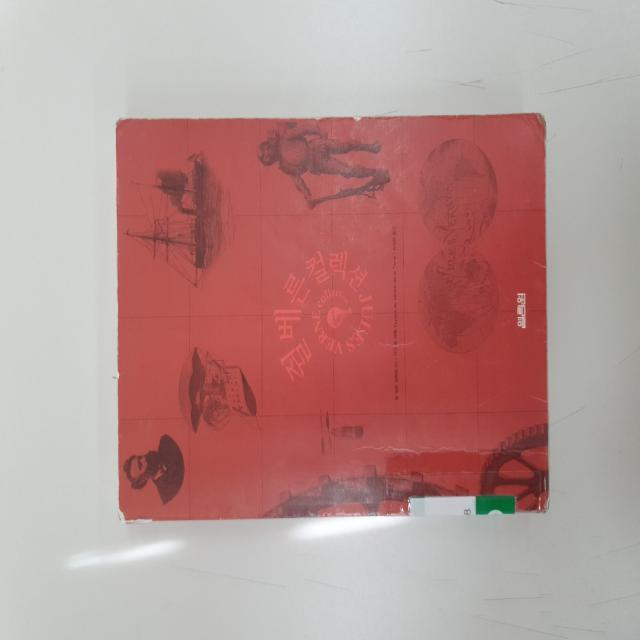Ripped: (114, 501, 153, 528)
Wornout: (107, 112, 204, 136), (111, 334, 133, 402), (306, 112, 376, 132), (530, 105, 553, 162)
